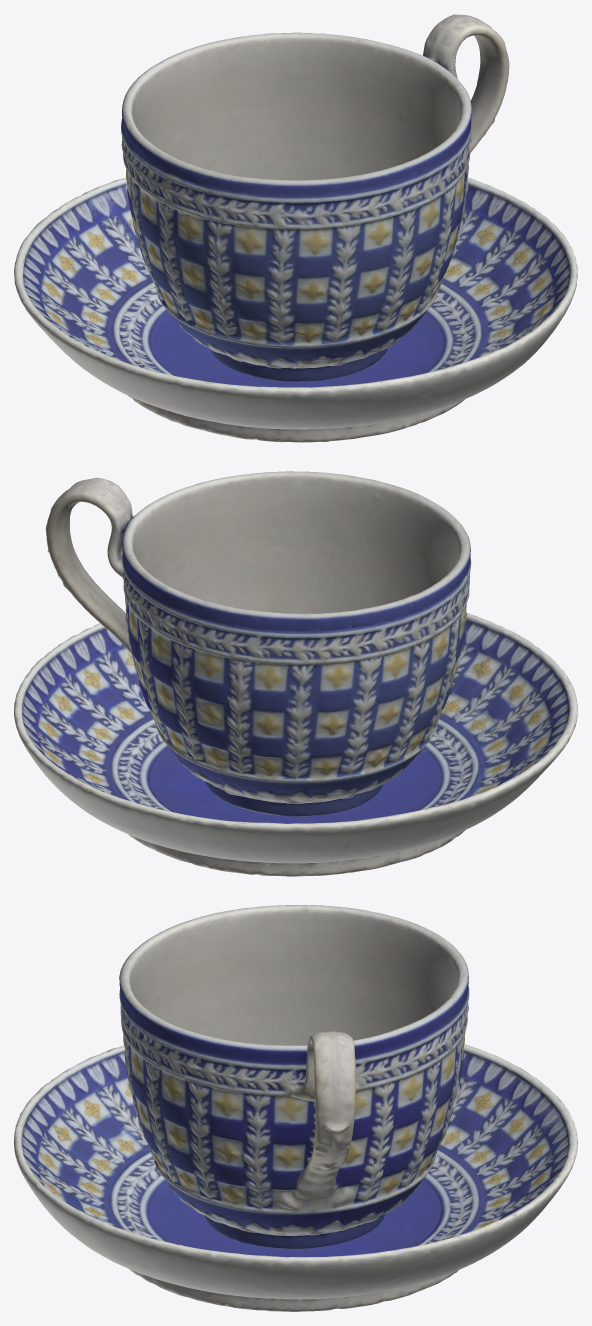
The picture shows the model from 3 angles, top to bottom: view 1: azimuth 30°, elevation 25°; view 2: azimuth 150°, elevation 25°; view 3: azimuth 270°, elevation 25°; orthographic projection.
Parts seen in each view (by area): view 1: Wedgwood_Cup_0, Wedgwood_Saucer_1; view 2: Wedgwood_Cup_0, Wedgwood_Saucer_1; view 3: Wedgwood_Cup_0, Wedgwood_Saucer_1.
Boxes of the visible parts, <box> form: Wedgwood_Cup_0: <box>121,14,509,381</box>; Wedgwood_Saucer_1: <box>14,177,577,442</box>; Wedgwood_Cup_0: <box>45,471,471,816</box>; Wedgwood_Saucer_1: <box>14,613,577,876</box>; Wedgwood_Cup_0: <box>119,905,469,1248</box>; Wedgwood_Saucer_1: <box>14,1044,577,1311</box>.
Bounding box in the file's own units: 0.1331 × 0.0751 × 0.1331.
Materials: 2 (2 with a texture image).
